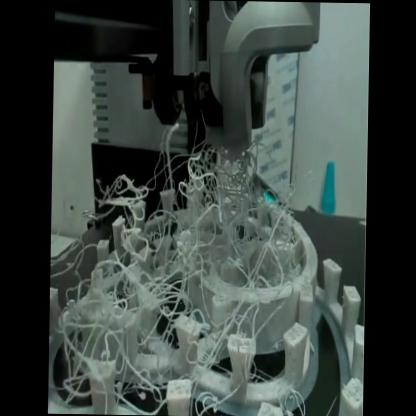fail: (67, 133, 289, 395)
